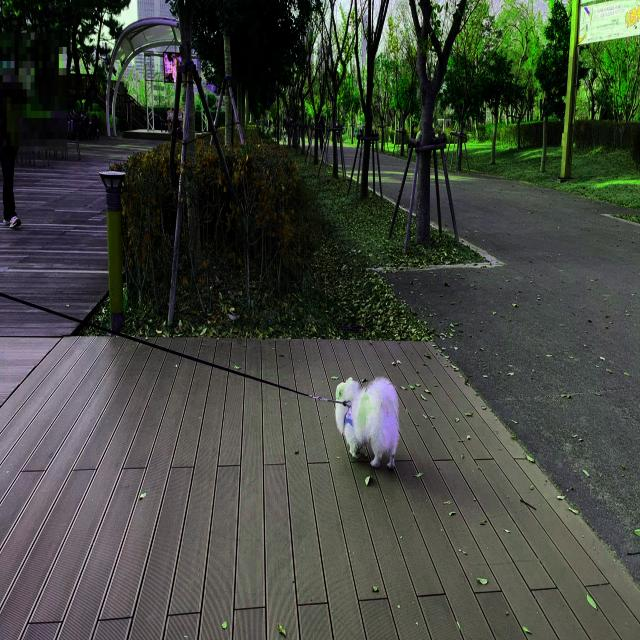Dog: (334, 376, 400, 471)
